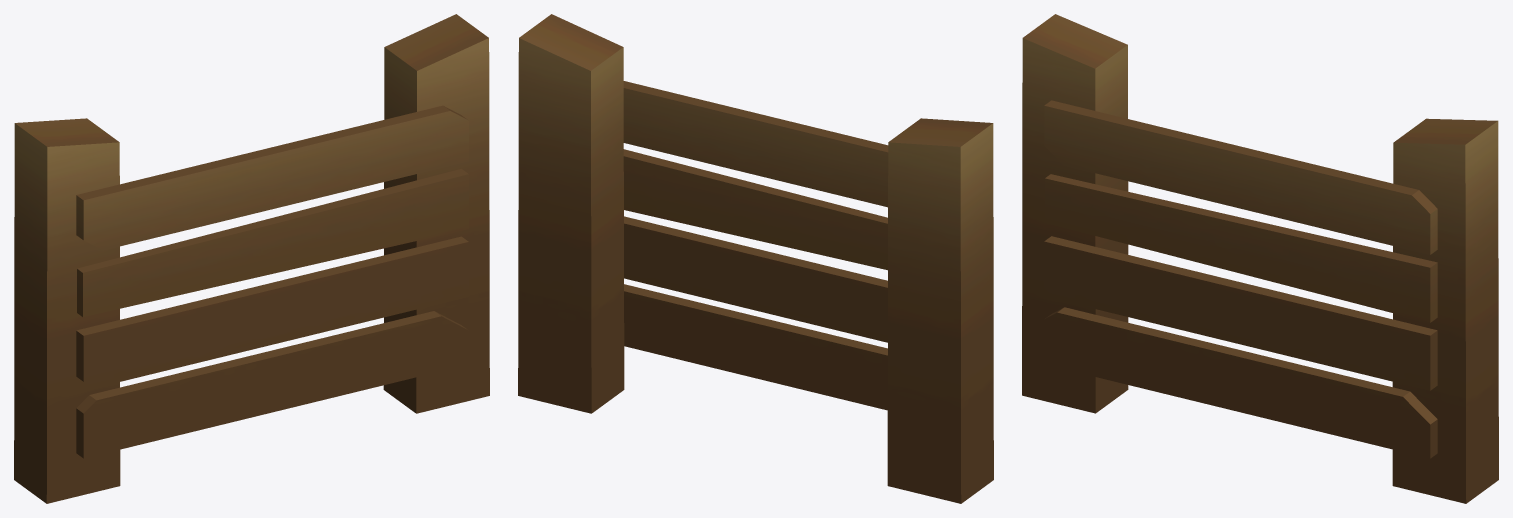
The model's file is pack04_fences_14.fbx.
3 renders of one model, left to right at view 1: azimuth 30°, elevation 25°; view 2: azimuth 150°, elevation 25°; view 3: azimuth 330°, elevation 25°, orthographic.
Visible parts, largest first — view 1: Small_Fence_01; view 2: Small_Fence_01; view 3: Small_Fence_01.
Part boxes in pixels (x1,y1,x2,y2): Small_Fence_01: [14, 14, 489, 503]; Small_Fence_01: [518, 14, 993, 503]; Small_Fence_01: [1022, 14, 1498, 503].
Size of the model in its own units: 35.97 by 27.78 by 5.63.
1 material, 1 textured.
